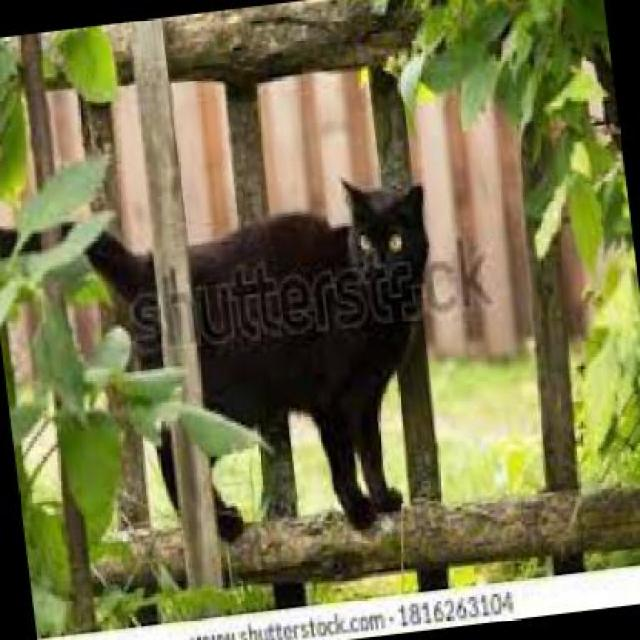animals: (89, 162, 482, 543)
